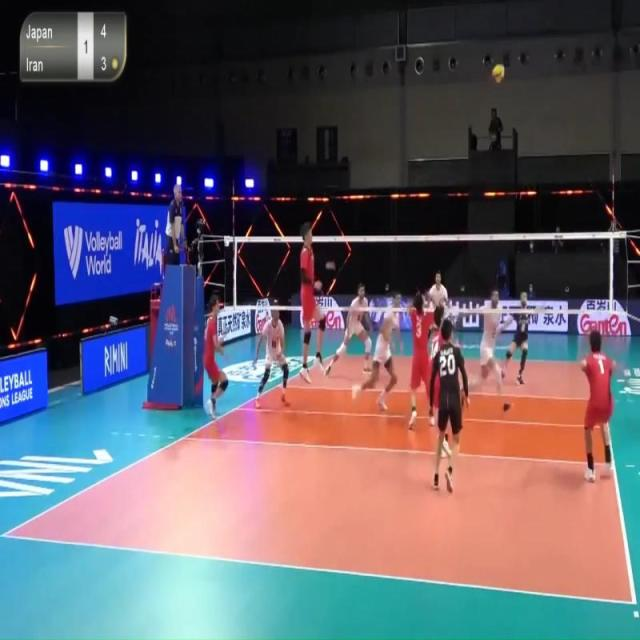volleyball: (492, 62, 506, 86)
